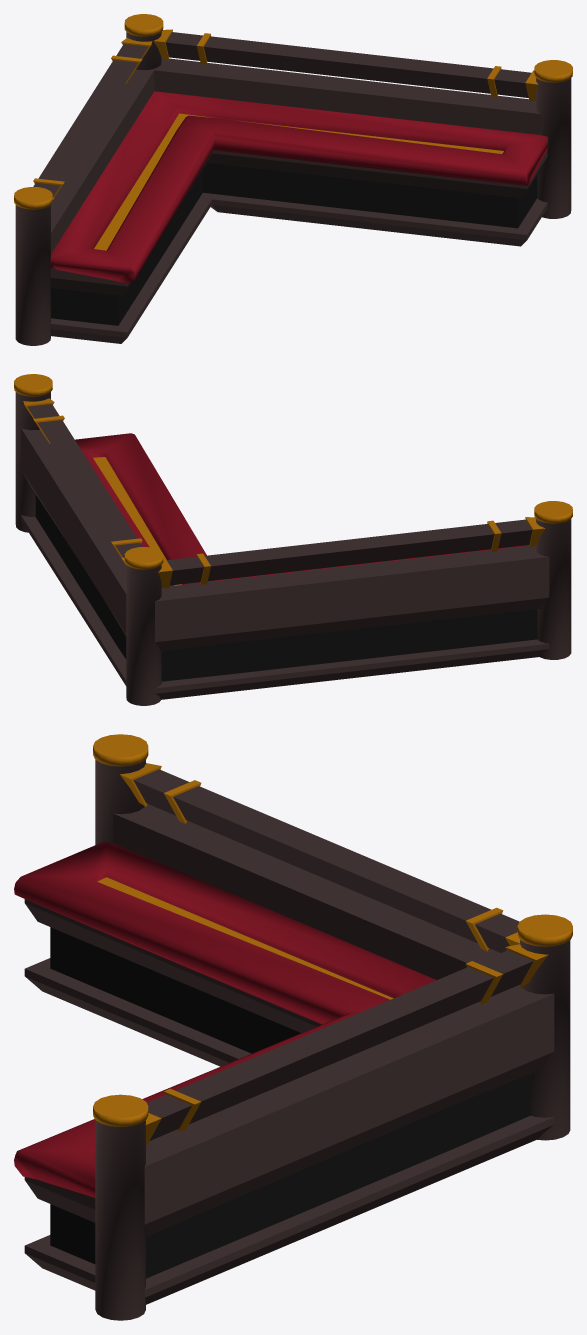
Rendered from Booth Corner Long.fbx.
3 renders of one model, top to bottom at view 1: azimuth 30°, elevation 25°; view 2: azimuth 150°, elevation 25°; view 3: azimuth 270°, elevation 25°, orthographic. The views are drawn at different scales.
Visible parts, largest first — view 1: Booth Corner Long; view 2: Booth Corner Long; view 3: Booth Corner Long.
Part boxes in pixels (box(x1,y1,x2,y2)): Booth Corner Long: box(14, 14, 572, 345); Booth Corner Long: box(14, 374, 572, 705); Booth Corner Long: box(14, 734, 572, 1320).
Size of the model in its own units: 432 by 107 by 266.
